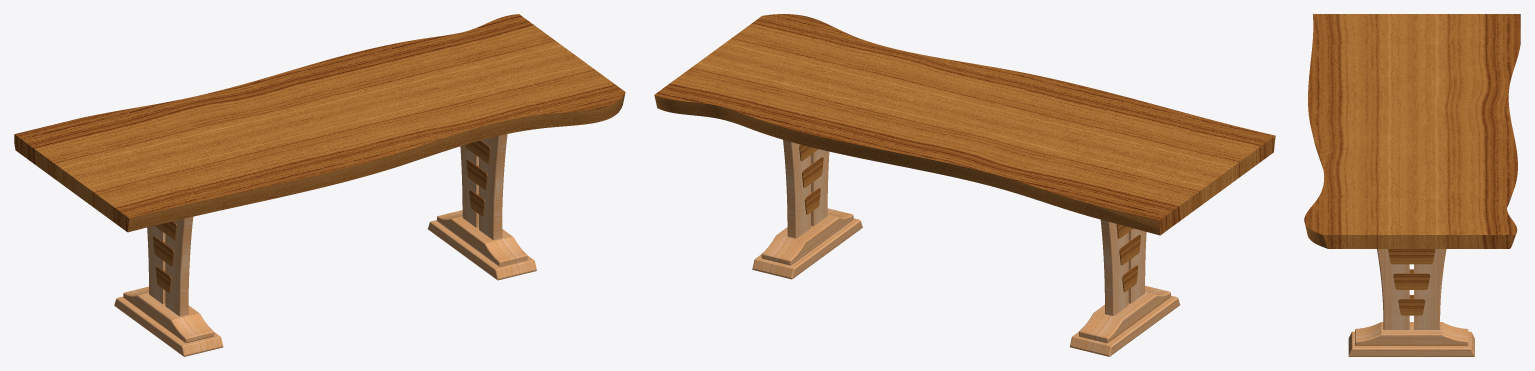
The model's file is IFD5821TBL-mwmmat08.glb.
3 renders of one model, left to right at view 1: azimuth 30°, elevation 25°; view 2: azimuth 150°, elevation 25°; view 3: azimuth 270°, elevation 25°, orthographic. The views are drawn at different scales.
Parts seen in each view (by area): view 1: 5821TBLTP-CUBIERTA-1, IFD5821TBL2-BASE PATA 2-1 (×2), IFD5821TBL2-BASE PATA 1-1 (×2), IFD5821TBL2-CURVA PATA-2 (×2), IFD5821TBL2-CURVA PATA-1 (×2); view 2: 5821TBLTP-CUBIERTA-1, IFD5821TBL2-BASE PATA 2-1 (×2), IFD5821TBL2-BASE PATA 1-1 (×2), IFD5821TBL2-CURVA PATA-1 (×2), IFD5821TBL2-CURVA PATA-2 (×2); view 3: 5821TBLTP-CUBIERTA-1, IFD5821TBL2-BASE PATA 2-1, IFD5821TBL2-BASE PATA 1-1, IFD5821TBL2-CURVA PATA-2, IFD5821TBL2-CURVA PATA-1, IFD5821TBL2-PARCHE PATA 1-1, IFD5821TBL2-PARCHE PATA 2-1, IFD5821TBL2-PARCHE PATA 3-1.
Boxes of the visible parts, x1,y1,x2,y2 form: 5821TBLTP-CUBIERTA-1: (14,14,625,232); IFD5821TBL2-BASE PATA 2-1 (×2): (123,210,527,342); IFD5821TBL2-BASE PATA 1-1 (×2): (114,220,536,356); IFD5821TBL2-CURVA PATA-2 (×2): (147,134,507,304); IFD5821TBL2-CURVA PATA-1 (×2): (165,145,478,316); 5821TBLTP-CUBIERTA-1: (654,14,1275,235); IFD5821TBL2-BASE PATA 2-1 (×2): (761,208,1170,343); IFD5821TBL2-BASE PATA 1-1 (×2): (752,218,1180,356); IFD5821TBL2-CURVA PATA-1 (×2): (783,140,1146,303); IFD5821TBL2-CURVA PATA-2 (×2): (811,149,1128,315); 5821TBLTP-CUBIERTA-1: (1304,14,1520,248); IFD5821TBL2-BASE PATA 2-1: (1355,322,1468,345); IFD5821TBL2-BASE PATA 1-1: (1348,331,1474,356); IFD5821TBL2-CURVA PATA-2: (1377,249,1409,329); IFD5821TBL2-CURVA PATA-1: (1414,249,1446,329); IFD5821TBL2-PARCHE PATA 1-1: (1388,249,1435,264); IFD5821TBL2-PARCHE PATA 2-1: (1393,273,1430,289); IFD5821TBL2-PARCHE PATA 3-1: (1398,298,1425,315).
Size of the model in its own units: 2.4 by 0.785 by 0.993.
4 materials, 3 textured.
